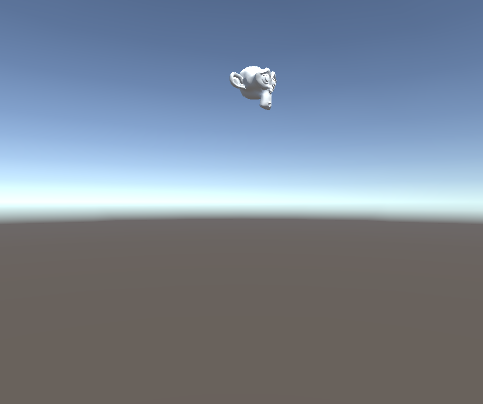monkey: (228, 63, 281, 114)
